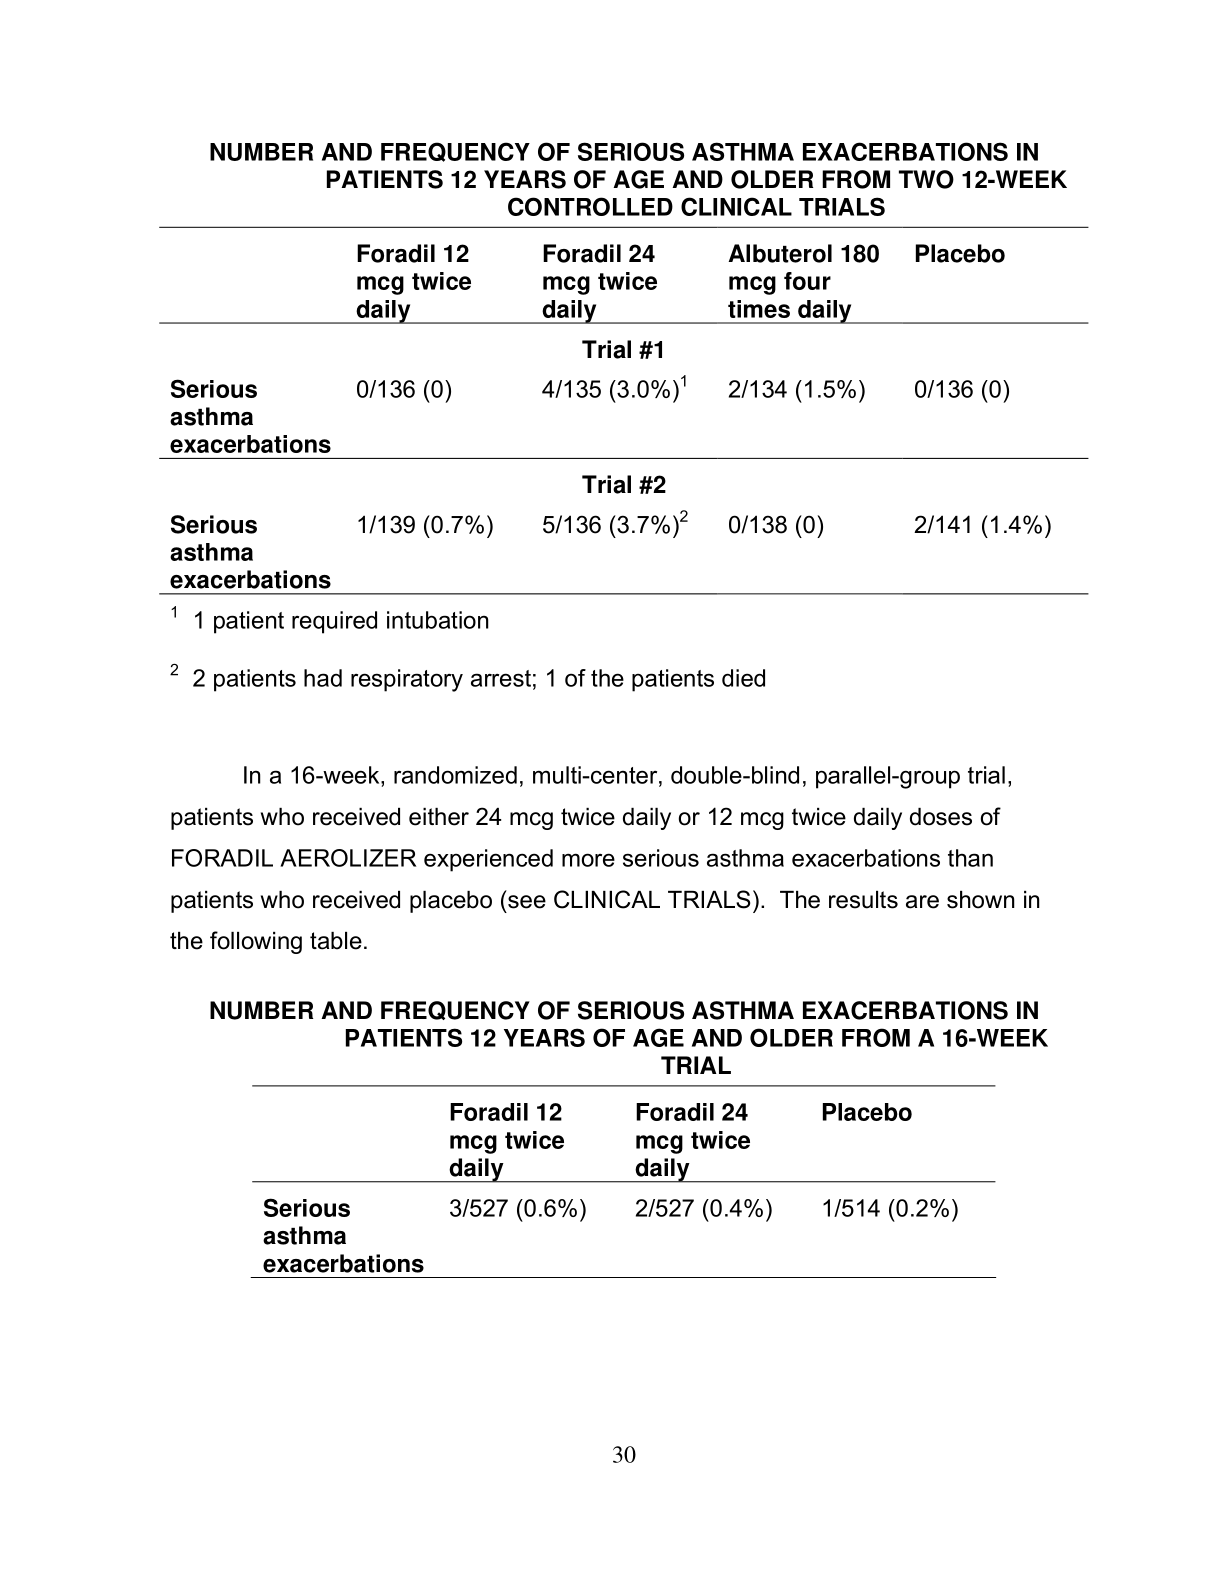partial_lined: (157, 222, 1092, 595), (249, 1083, 999, 1281)
